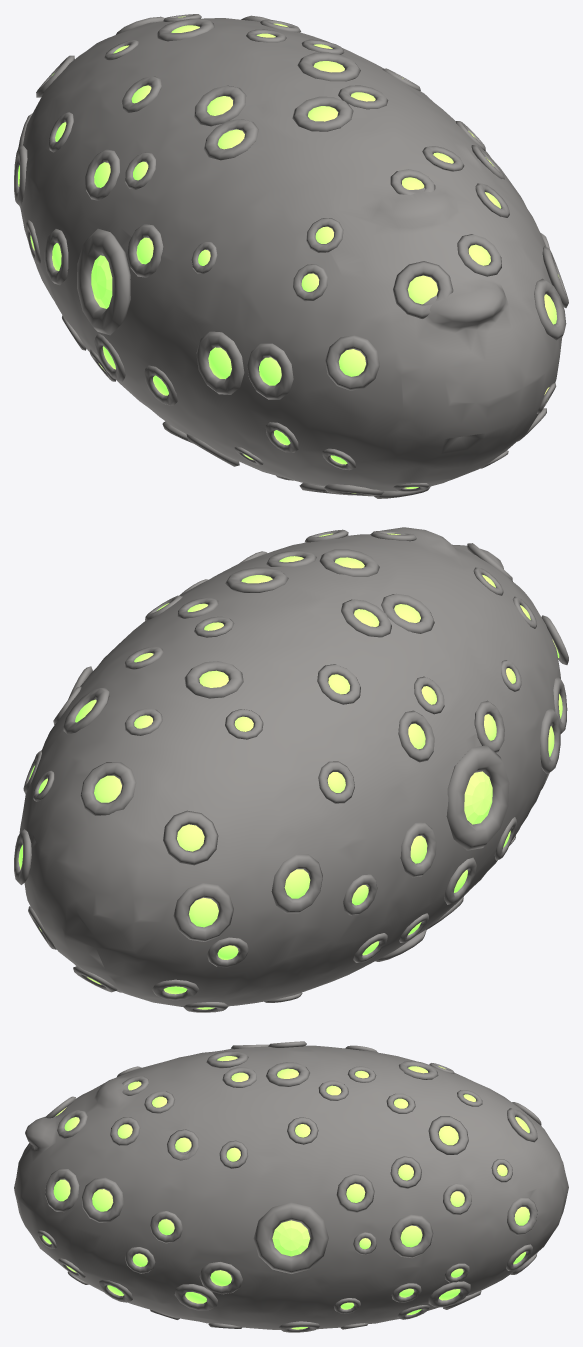
3 views of the same model, one above another, from view 1: azimuth 30°, elevation 25°; view 2: azimuth 150°, elevation 25°; view 3: azimuth 270°, elevation 25° (orthographic). The views are drawn at different scales.
Parts seen in each view (by area): view 1: Segment1, RimsS, PoresS, HoleL1; view 2: Segment1, RimsS, PoresS, HoleL1; view 3: Segment1, RimsS, PoresS, HoleR1.
Part boxes in pixels (bbox=[...]): Segment1: bbox=[20, 18, 562, 491]; RimsS: bbox=[14, 14, 568, 498]; PoresS: bbox=[18, 16, 559, 493]; HoleL1: bbox=[91, 255, 112, 308]; Segment1: bbox=[19, 527, 560, 1006]; RimsS: bbox=[14, 529, 568, 1012]; PoresS: bbox=[18, 533, 562, 1009]; HoleL1: bbox=[464, 771, 492, 824]; Segment1: bbox=[14, 1045, 568, 1329]; RimsS: bbox=[37, 1041, 541, 1332]; PoresS: bbox=[42, 1056, 529, 1329]; HoleR1: bbox=[272, 1220, 310, 1256].
Size of the model in its own units: 0.9087 by 0.8142 by 1.58.
